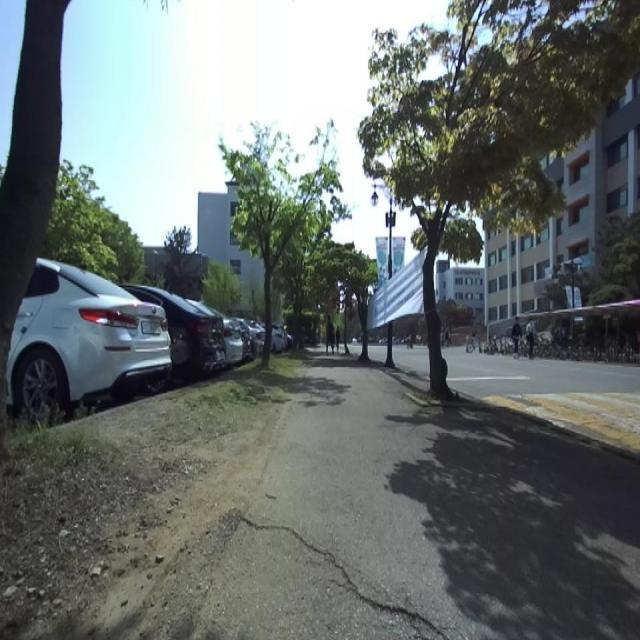sidewalk: (195, 353, 640, 638)
